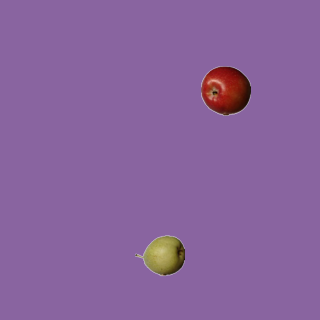Apple Braeburn: (200, 65, 250, 115)
Pear: (134, 230, 184, 280)
